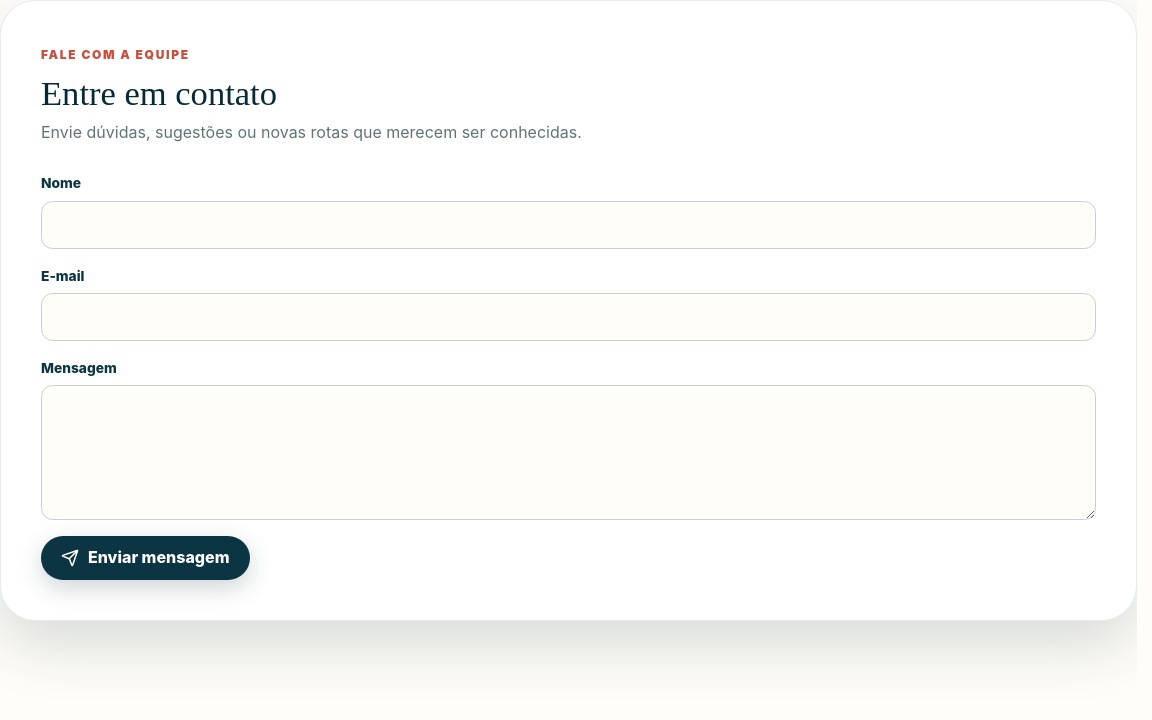
Scenario: ContactForm › valida os campos antes de enviar
Click the button "Enviar mensagem".
click(145, 558)  # box [41,536,250,580]
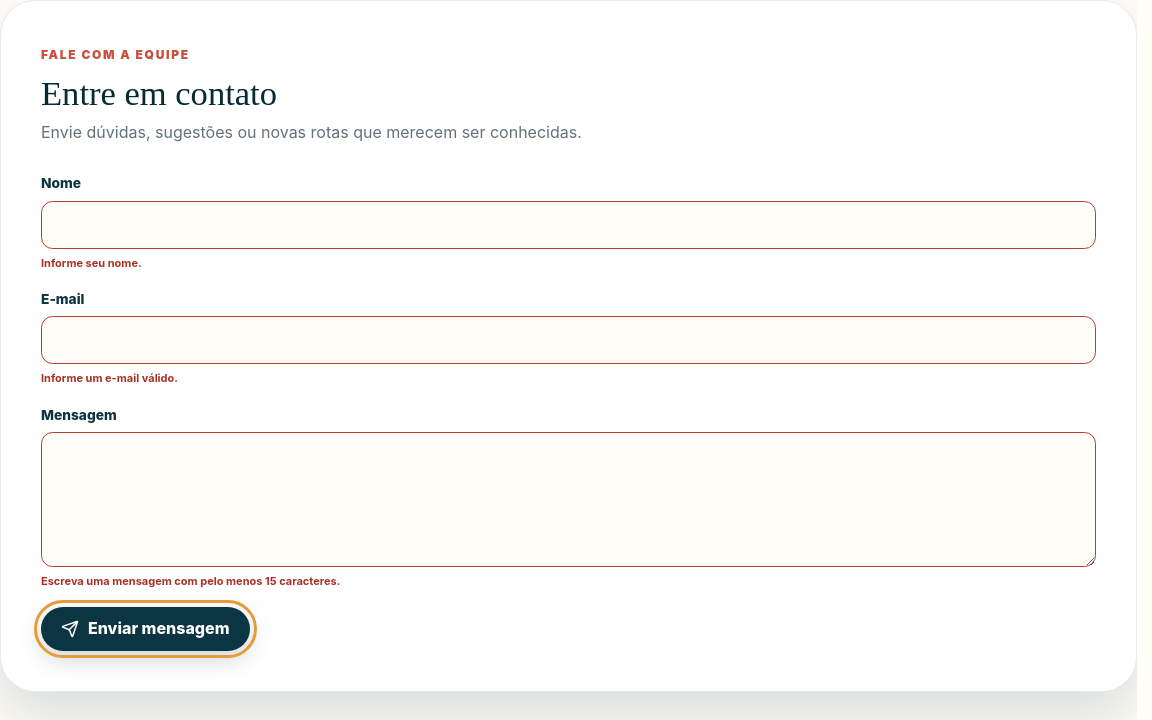
Expected: the text "Informe seu nome." is shown, [41,256,142,270]
Expected: the text "Informe um e-mail válido." is shown, [41,371,178,385]
